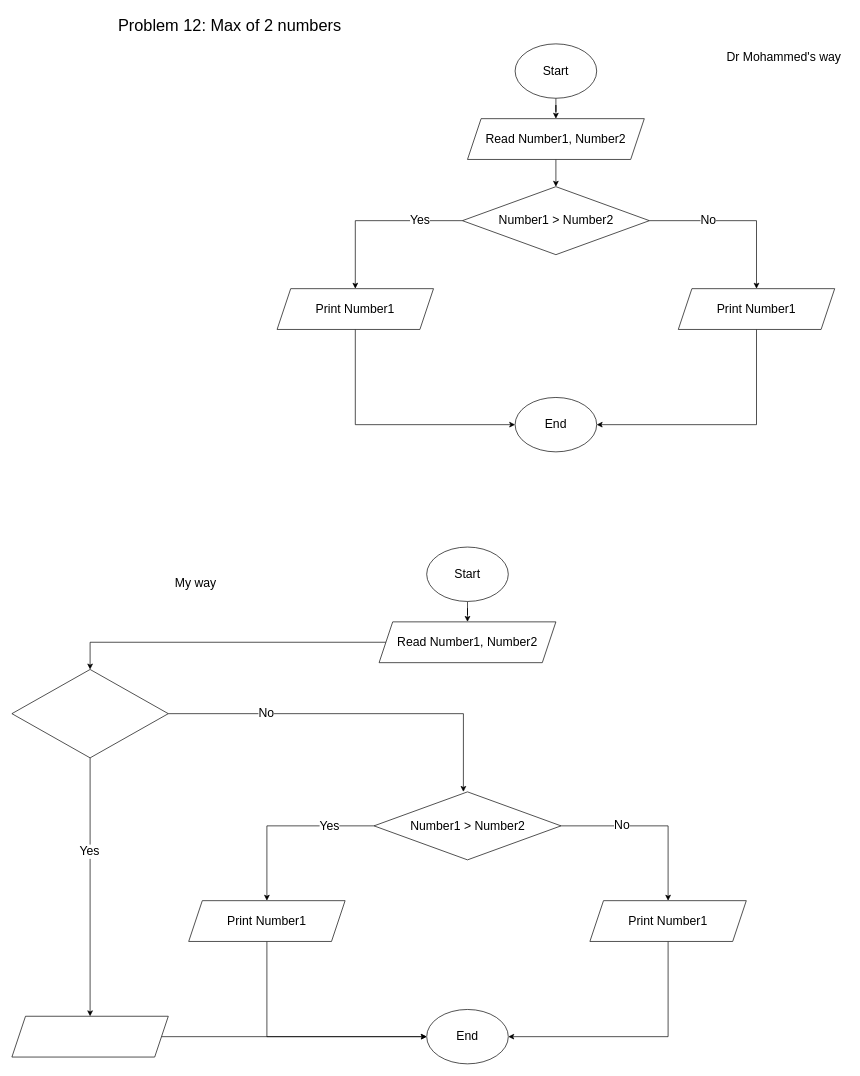
Image size: 860x1076. Some labels were removed from this diagram. Here are the shapes that lost their labels. From the top down, the centre of each, then its label:
point (89, 713): Number1 = Number2
point (89, 1036): Print equal
